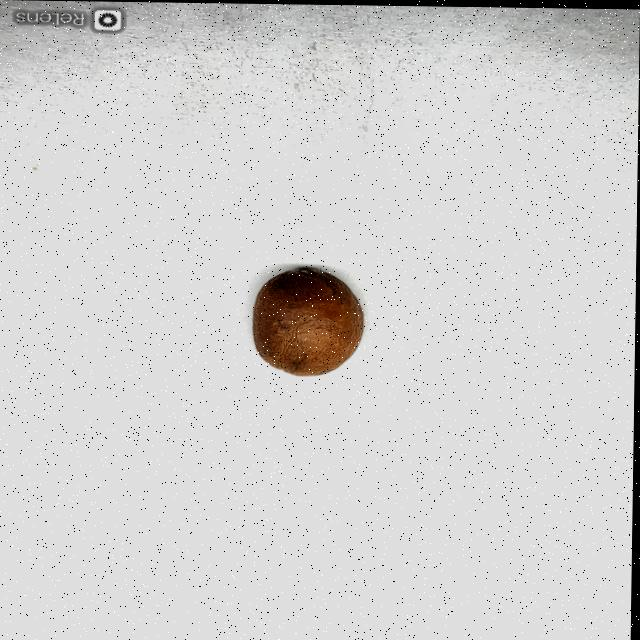Good bean: (252, 266, 367, 377)
